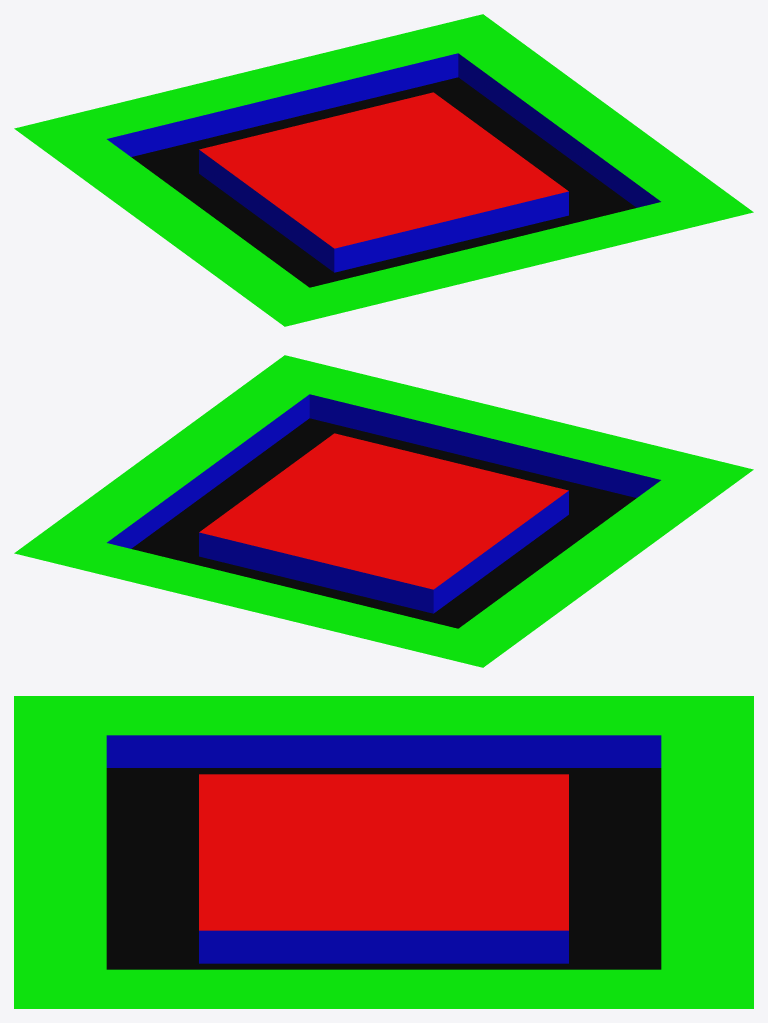
File: Floor_1x1.fbx
The picture shows the model from 3 angles, top to bottom: view 1: azimuth 30°, elevation 25°; view 2: azimuth 150°, elevation 25°; view 3: azimuth 270°, elevation 25°; orthographic projection. The views are drawn at different scales.
Visible parts, largest first — view 1: Plane; view 2: Plane; view 3: Plane.
Part boxes in pixels (x1,y1,x2,y2): Plane: (14,14,753,326); Plane: (14,355,753,667); Plane: (14,696,753,1008).
Bounding box in the file's own units: 1 × 0.049 × 1.
